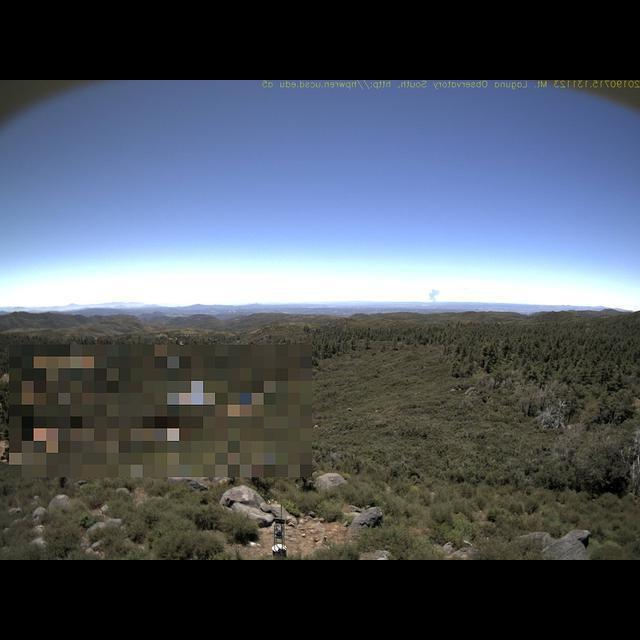Smoke: (427, 287, 446, 305)
